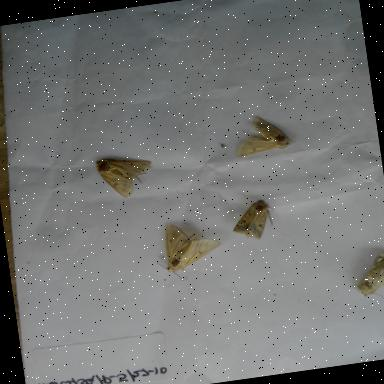abw: (146, 213, 230, 287), (222, 106, 299, 164), (221, 185, 289, 250), (90, 146, 162, 204), (343, 243, 384, 303)
